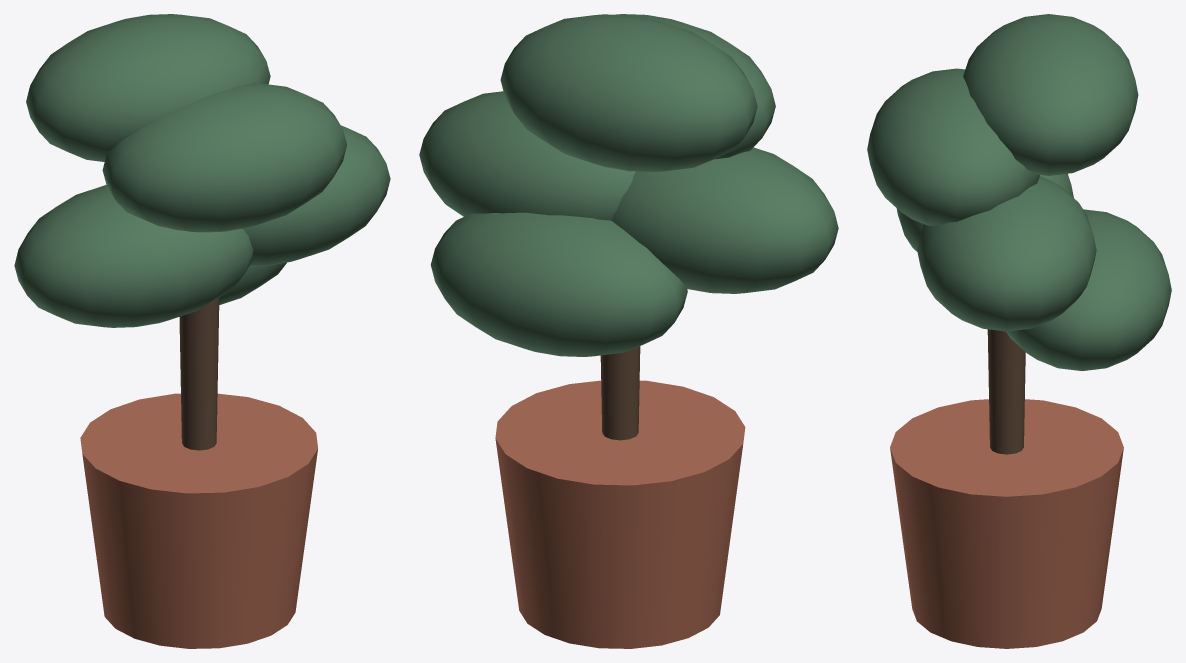
File: plant.glb
3 renders of one model, left to right at view 1: azimuth 30°, elevation 25°; view 2: azimuth 150°, elevation 25°; view 3: azimuth 270°, elevation 25°, orthographic. The views are drawn at different scales.
Bounding box in the file's own units: 1.5 × 2.22 × 1.09.
